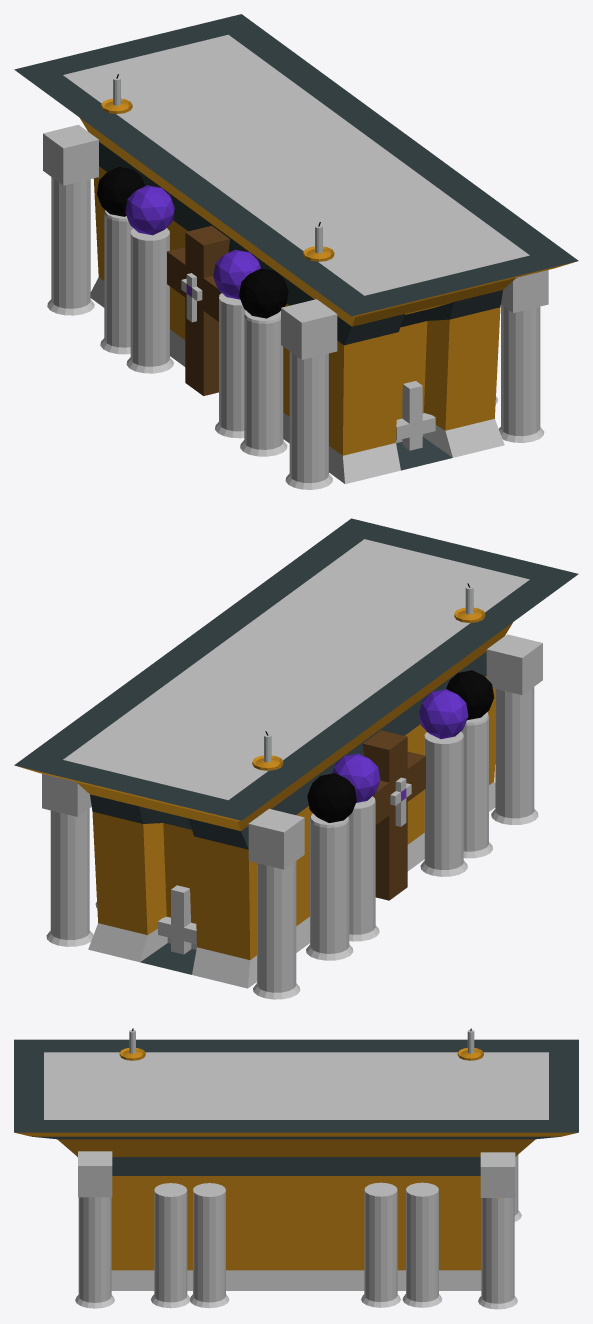
File: altaar.fbx
3 renders of one model, top to bottom at view 1: azimuth 30°, elevation 25°; view 2: azimuth 150°, elevation 25°; view 3: azimuth 270°, elevation 25°, orthographic. The views are drawn at different scales.
Visible parts, largest first — view 1: Cube.002; view 2: Cube.002; view 3: Cube.002.
Boxes of the visible parts, bbox=[...] form: Cube.002: bbox=[14, 14, 578, 489]; Cube.002: bbox=[14, 518, 578, 999]; Cube.002: bbox=[14, 1028, 578, 1309].
Bounding box in the file's own units: 6.2 × 5.58 × 14.34.
